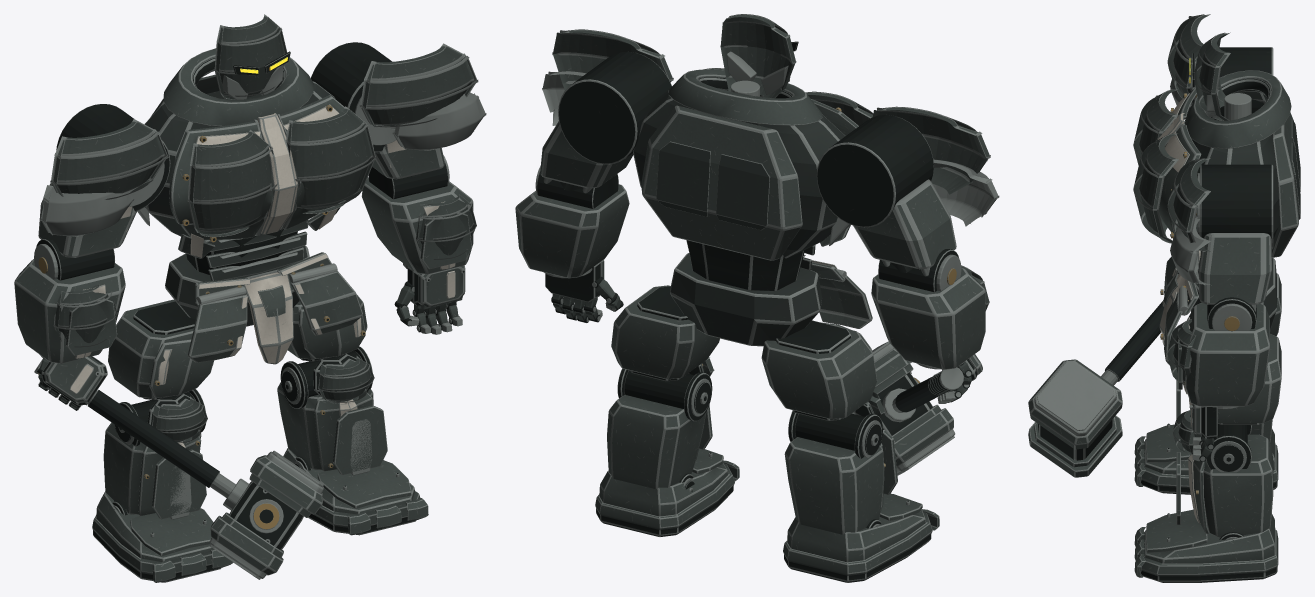
The model's file is tank-t4-harrow.glb.
3 views of the same model, side by side, from view 1: azimuth 30°, elevation 25°; view 2: azimuth 150°, elevation 25°; view 3: azimuth 270°, elevation 25° (orthographic). The views are drawn at different scales.
Parts seen in each view (by area): view 1: chest__clay, kneeL__clay, elbowR__clay, weaponR__metal, kneeR__clay, elbowL__clay, pelvis__metal, ankleR__clay, pauldronL__clay, pauldronR__clay, hipR__clay, ankleL__clay (+24 smaller); view 2: chest__clay, chest__metal, pelvis__metal, shoulderR__metal, kneeR__clay, shoulderL__metal, elbowR__clay, kneeL__clay, elbowL__clay, hipR__clay, ankleR__clay, ankleL__clay (+22 smaller); view 3: chest__clay, elbowL__clay, kneeL__clay, ankleL__clay, weaponR__metal, shoulderL__metal, shoulderL__clay, weaponR__clay, chest__metal, ankleR__clay, hipL__clay, pauldronL__clay (+16 smaller).
Part boxes in pixels (bbox=[...]): chest__clay: bbox=[150, 48, 375, 258]; kneeL__clay: bbox=[277, 356, 387, 474]; elbowR__clay: bbox=[14, 259, 125, 363]; weaponR__metal: bbox=[34, 359, 323, 579]; kneeR__clay: bbox=[103, 396, 207, 519]; elbowL__clay: bbox=[361, 177, 476, 274]; pelvis__metal: bbox=[165, 219, 337, 326]; ankleR__clay: bbox=[92, 491, 233, 582]; pauldronL__clay: bbox=[359, 43, 478, 129]; pauldronR__clay: bbox=[50, 119, 168, 199]; hipR__clay: bbox=[108, 299, 213, 398]; ankleL__clay: bbox=[283, 448, 428, 535]; chest__clay: bbox=[641, 68, 873, 260]; chest__metal: bbox=[632, 77, 850, 258]; pelvis__metal: bbox=[670, 240, 846, 346]; shoulderR__metal: bbox=[816, 114, 933, 276]; kneeR__clay: bbox=[784, 392, 897, 534]; shoulderL__metal: bbox=[543, 51, 671, 193]; elbowR__clay: bbox=[871, 265, 989, 369]; kneeL__clay: bbox=[607, 357, 714, 488]; elbowL__clay: bbox=[515, 184, 629, 278]; hipR__clay: bbox=[761, 320, 877, 419]; ankleR__clay: bbox=[783, 493, 939, 575]; ankleL__clay: bbox=[595, 449, 739, 530]; chest__clay: bbox=[1133, 70, 1298, 271]; elbowL__clay: bbox=[1167, 302, 1269, 406]; kneeL__clay: bbox=[1172, 409, 1273, 537]; ankleL__clay: bbox=[1134, 509, 1278, 577]; weaponR__metal: bbox=[1034, 300, 1163, 460]; shoulderL__metal: bbox=[1196, 164, 1273, 311]; shoulderL__clay: bbox=[1198, 233, 1271, 304]; weaponR__clay: bbox=[1028, 359, 1122, 477]; chest__metal: bbox=[1165, 78, 1300, 238]; ankleR__clay: bbox=[1134, 424, 1278, 488]; hipL__clay: bbox=[1217, 334, 1281, 423]; pauldronL__clay: bbox=[1167, 158, 1210, 251].
Bounding box in the file's own units: 3.73 × 4.02 × 2.08.
11 materials, 10 textured.
